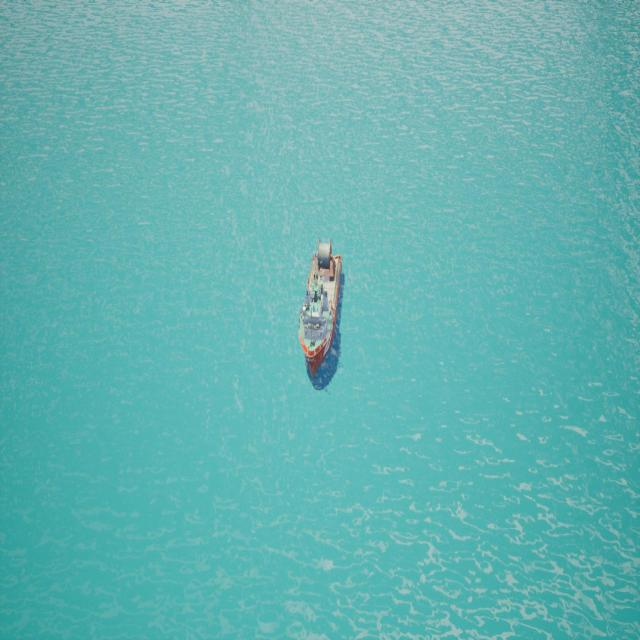tug boat: (299, 240, 345, 393)
